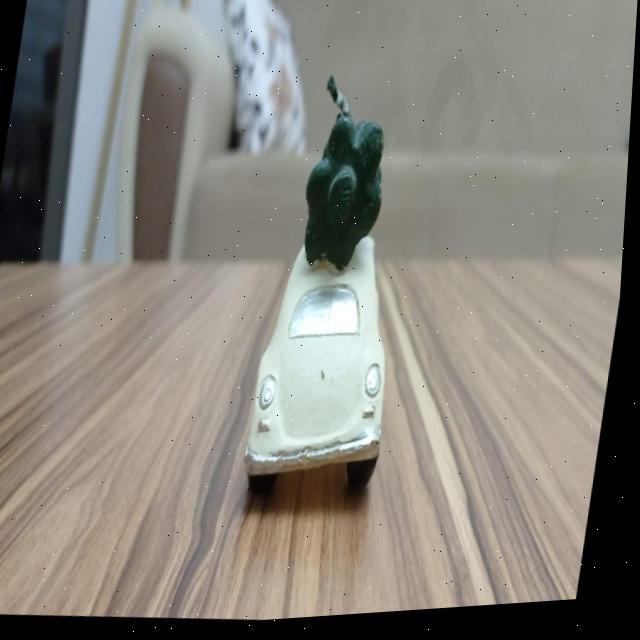vehicle: (237, 236, 419, 498)
